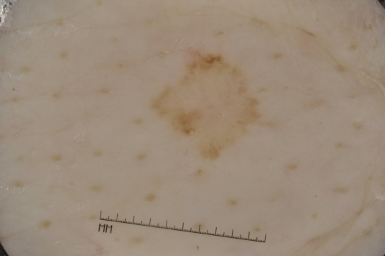seborrheic keratosis: (145, 43, 274, 172)
